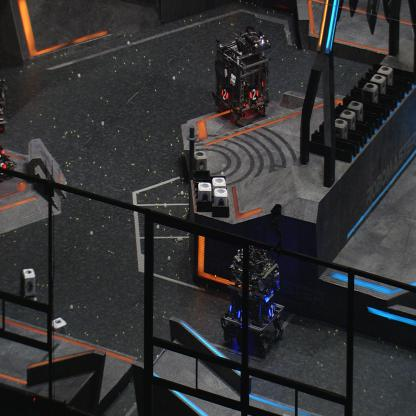car: (219, 245, 285, 356), (212, 27, 271, 125), (0, 134, 17, 187), (0, 69, 8, 135)
